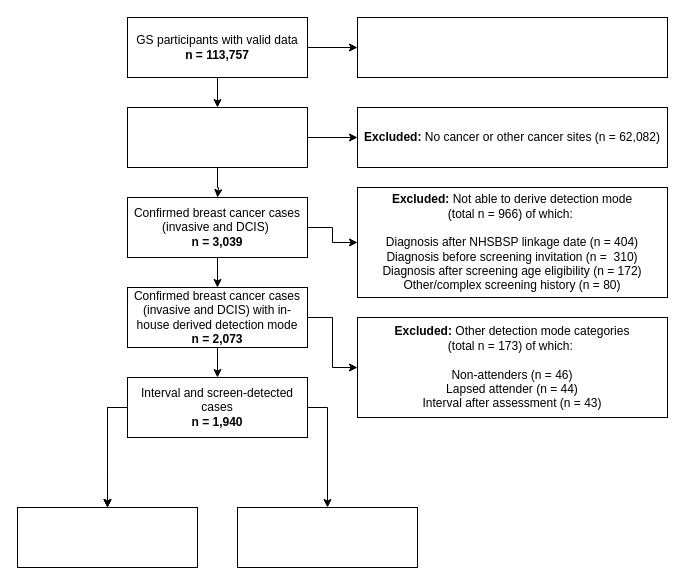
The diagram is 685 pixels wide and 585 high, and some of its shapes have lost their labels. The shapes that lost their labels are listed below. From the top down, each one's centre as x and y in pixels, then its label:
At point 512,47: "Excluded: Not linked with NHSBSP ( n = 48,636)".
At point 217,137: "Linked with the NHSBSP and attended screening n = 65,121".
At point 107,537: "Interval cases n = 755".
At point 327,537: "Screen-detected cases n = 1,185".
